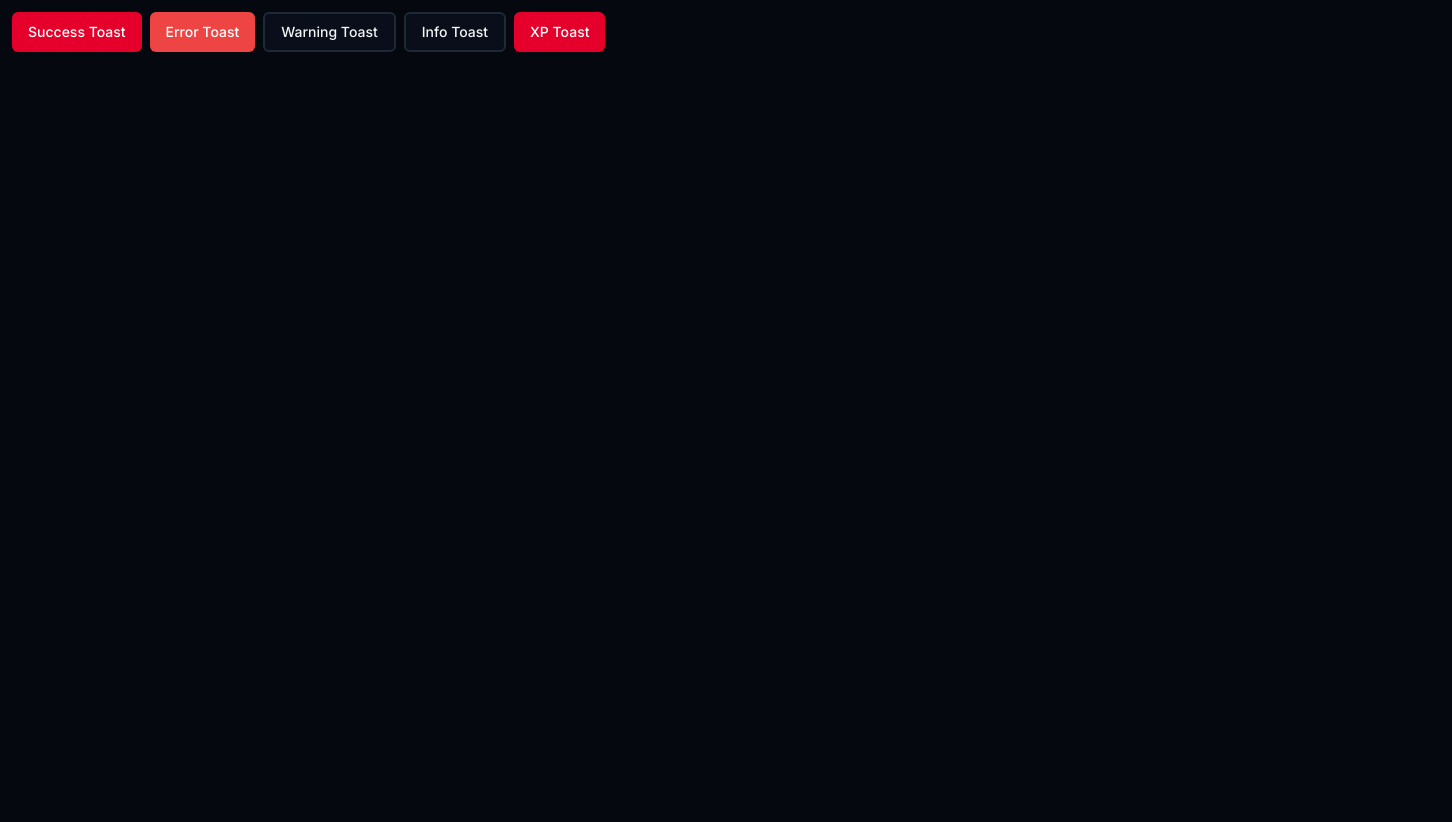
Test: Examples › should show warning toast when button clicked
Click the button "Warning Toast" at (330, 32), box [263,12,396,52]
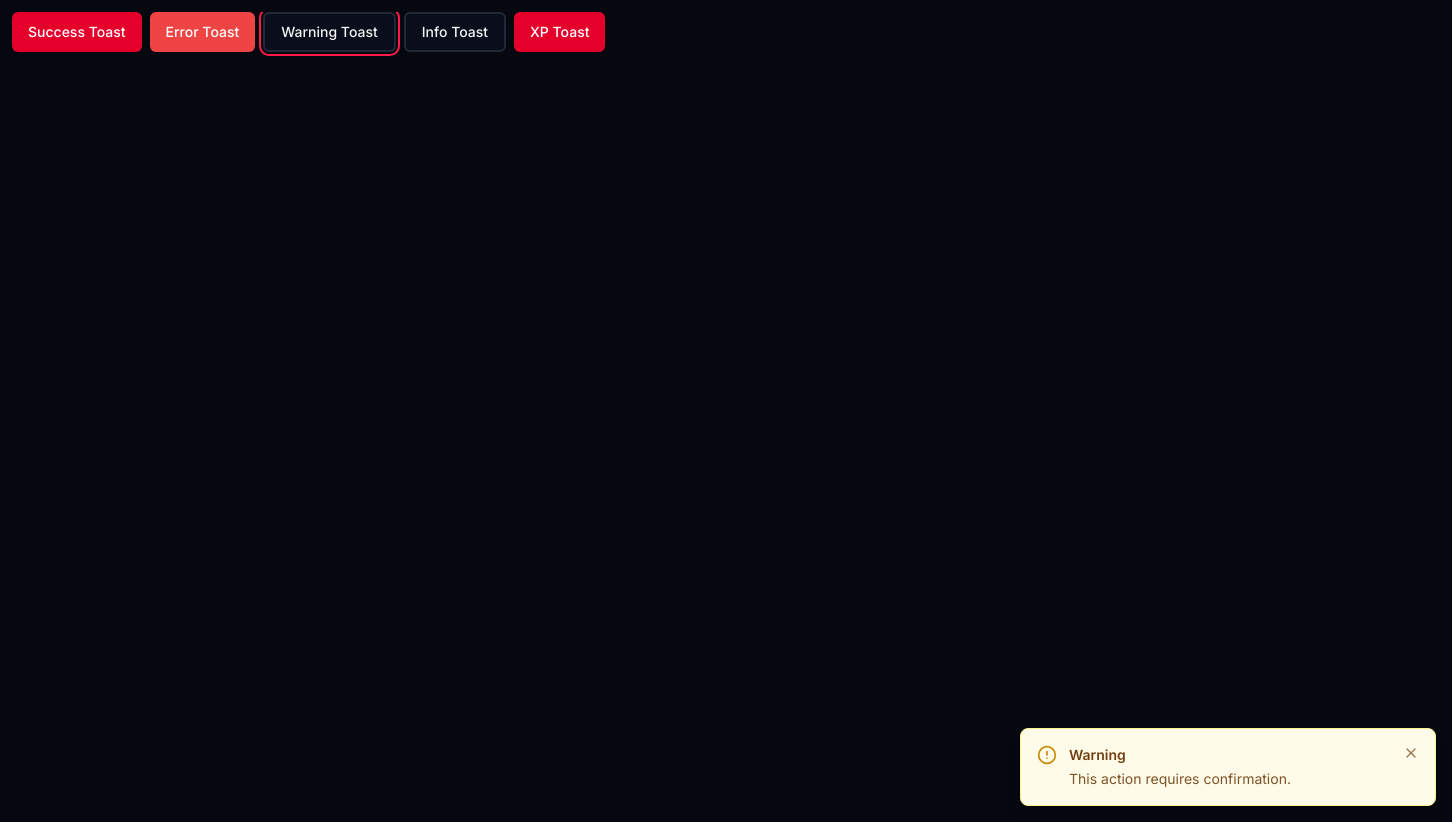
Expected: the text "Warning" is shown, [1069,746,1126,763]
